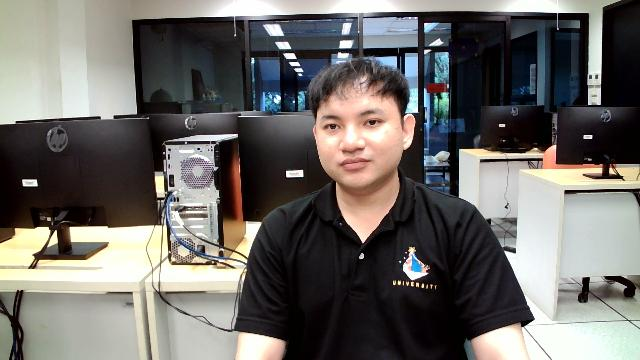fokus: (312, 66, 418, 187)
